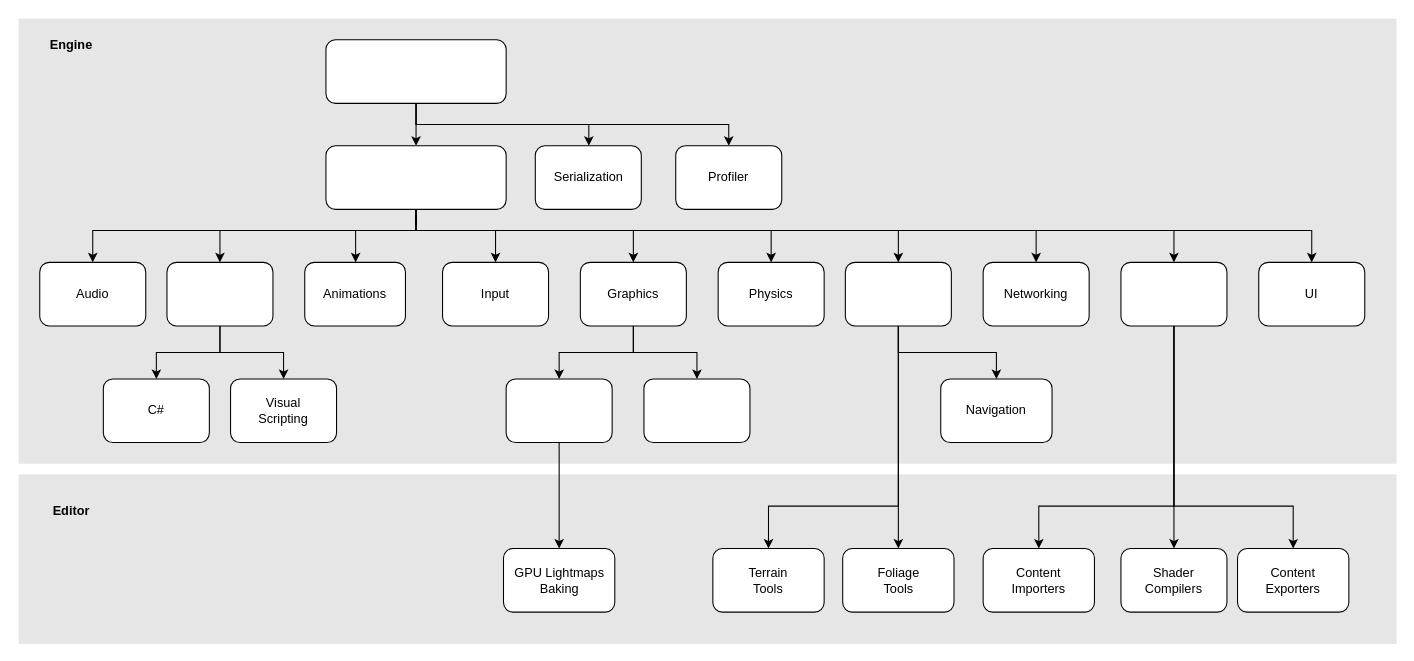
The diagram is 1414 pixels wide and 661 high, and some of its shapes have lost their labels. The box of each missing label's shape, as (x1, y1, x2, y2) in pixels:
Content: (1120, 261, 1227, 326)
Core: (325, 145, 506, 209)
Platform: (325, 39, 506, 103)
Render2D: (643, 378, 750, 443)
Renderer: (505, 378, 612, 443)
Scene Management: (844, 261, 951, 326)
Scripting: (166, 261, 273, 326)
